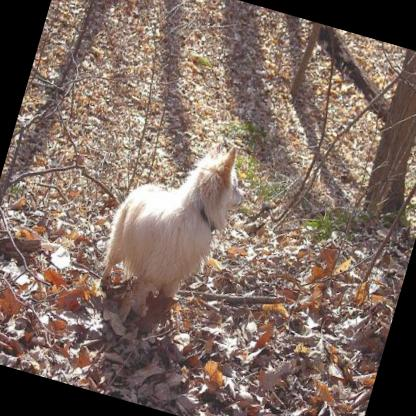Pomeranian: (94, 119, 256, 329)
